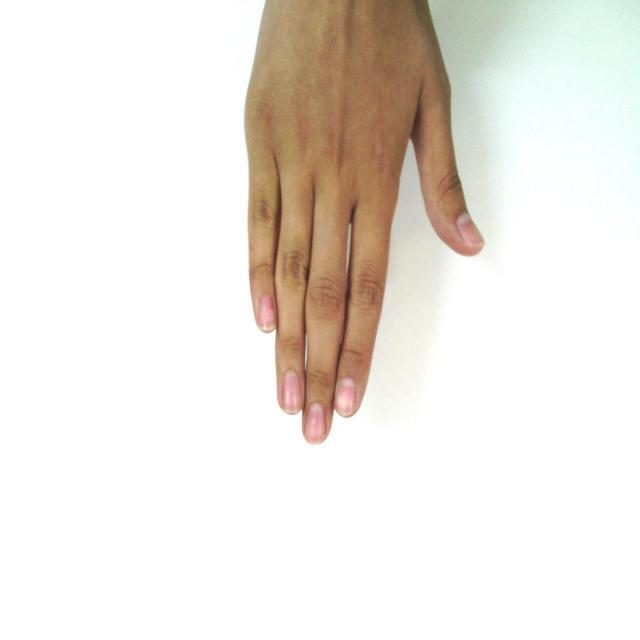Fingernail: (458, 213, 483, 245), (282, 370, 301, 412), (335, 377, 356, 415), (306, 404, 325, 444), (258, 294, 275, 330)
